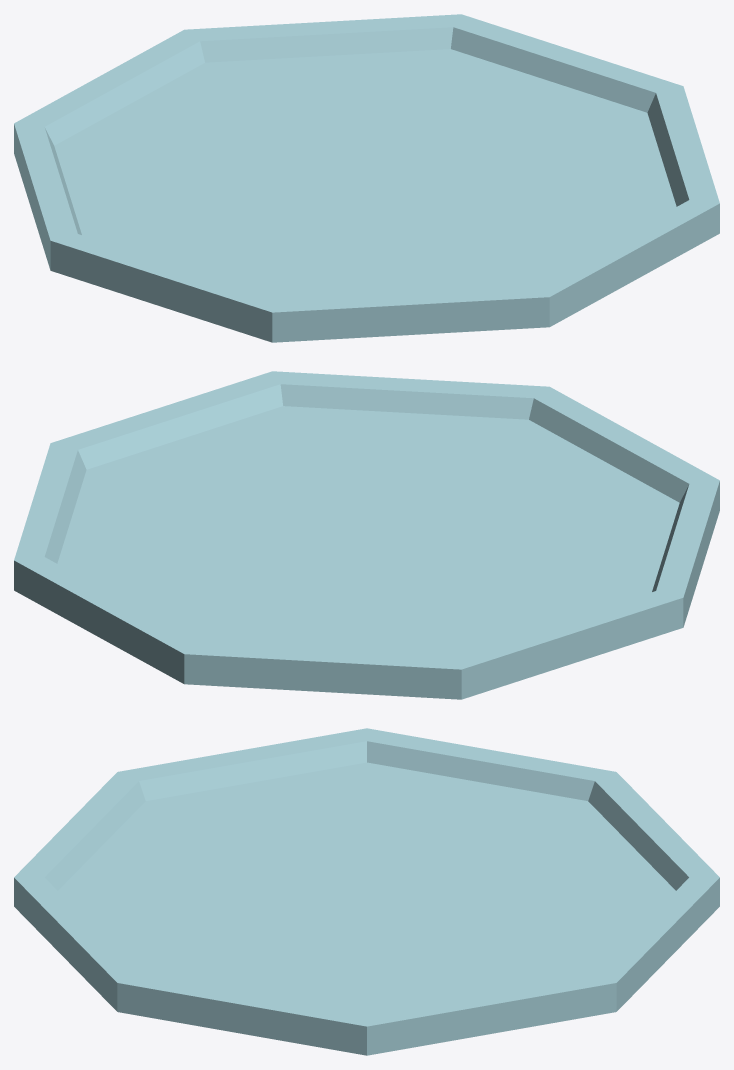
Rendered from Soporte_De_Vela_001.fbx.
3 views of the same model, one above another, from view 1: azimuth 30°, elevation 25°; view 2: azimuth 150°, elevation 25°; view 3: azimuth 270°, elevation 25° (orthographic). The views are drawn at different scales.
Visible parts, largest first — view 1: Soporte_De_Vela; view 2: Soporte_De_Vela; view 3: Soporte_De_Vela.
Boxes of the visible parts, x1,y1,x2,y2 form: Soporte_De_Vela: (14,14,719,342); Soporte_De_Vela: (14,371,719,699); Soporte_De_Vela: (14,728,719,1055).
Bounding box in the file's own units: 0.00548 × 0.000249 × 0.00548.
